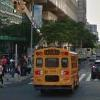Bus: (26, 44, 82, 93)
